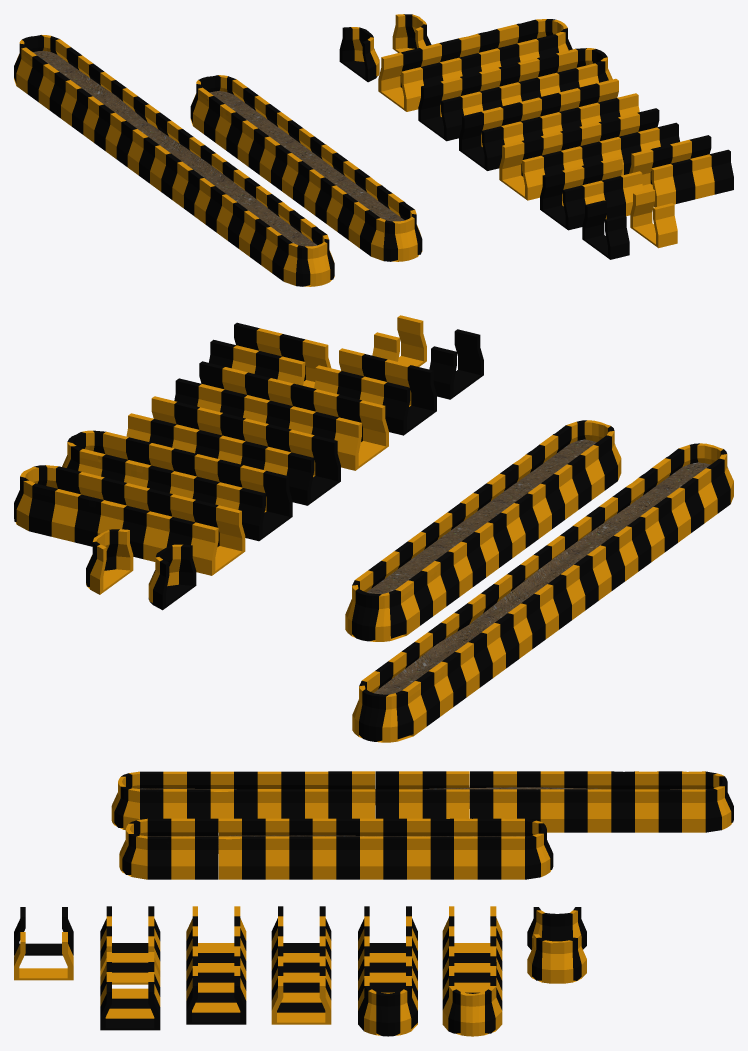
The model's file is st_divider.glb.
3 views of the same model, one above another, from view 1: azimuth 30°, elevation 25°; view 2: azimuth 150°, elevation 25°; view 3: azimuth 270°, elevation 25° (orthographic). The views are drawn at different scales.
Parts seen in each view (by area): view 1: Cube_black _0, Cube_yellow_0, Plane.001_mud_0; view 2: Cube_black _0, Cube_yellow_0, Plane.001_mud_0; view 3: Cube_yellow_0, Cube_black _0, Plane.001_mud_0.
Part boxes in pixels (<box>): Cube_black _0: <box>14,14,733,286</box>; Cube_yellow_0: <box>14,14,714,286</box>; Plane.001_mud_0: <box>33,50,404,246</box>; Cube_black _0: <box>14,322,730,741</box>; Cube_yellow_0: <box>15,315,733,742</box>; Plane.001_mud_0: <box>366,439,710,694</box>; Cube_yellow_0: <box>14,771,731,1036</box>; Cube_black _0: <box>14,771,733,1036</box>; Plane.001_mud_0: <box>139,787,706,853</box>.
Bounding box in the file's own units: 9.18 × 0.7226 × 12.19.
3 materials, 1 textured.
